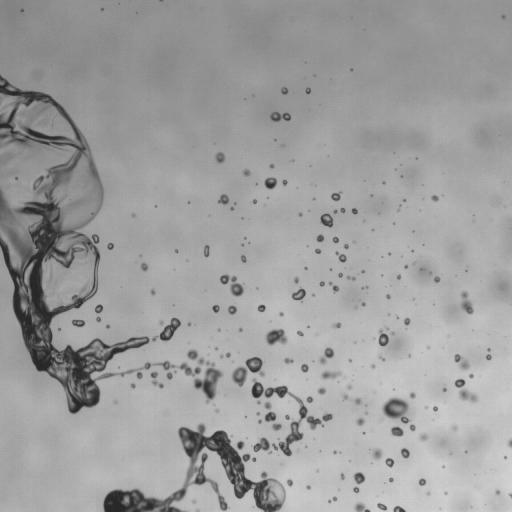droplet: (230, 356, 265, 387), (380, 397, 411, 424), (219, 274, 245, 297), (264, 328, 287, 345), (318, 347, 334, 365), (454, 353, 470, 370), (291, 286, 306, 302), (320, 213, 333, 227), (369, 447, 382, 460), (264, 177, 277, 189), (217, 194, 229, 206), (353, 472, 365, 484), (390, 426, 403, 437), (334, 251, 346, 262), (328, 281, 339, 293), (214, 152, 225, 163), (331, 190, 342, 201), (9, 78, 20, 89), (7, 141, 18, 152), (25, 191, 36, 202), (324, 200, 335, 211), (81, 225, 92, 236), (321, 238, 332, 249), (82, 299, 93, 310), (68, 307, 79, 318), (49, 316, 60, 327), (10, 320, 21, 331), (114, 332, 125, 343), (105, 335, 116, 346), (53, 339, 64, 350), (20, 350, 31, 361), (324, 358, 335, 369), (105, 359, 116, 370), (309, 363, 320, 374), (244, 371, 255, 382), (220, 372, 231, 383), (260, 377, 271, 388), (213, 380, 224, 391), (55, 386, 66, 397), (352, 405, 363, 416), (298, 420, 309, 431), (279, 425, 290, 436), (267, 433, 278, 444), (394, 436, 405, 447), (172, 438, 183, 449), (207, 450, 218, 461), (243, 468, 254, 479), (249, 471, 260, 482), (187, 483, 198, 494), (223, 483, 234, 494), (155, 489, 166, 500), (223, 489, 234, 500), (72, 319, 85, 327), (355, 416, 365, 426), (227, 305, 237, 314), (400, 448, 409, 458), (384, 458, 394, 467), (377, 502, 387, 511), (94, 304, 103, 313), (419, 432, 428, 441), (31, 83, 40, 92), (5, 160, 14, 169), (94, 161, 103, 170), (265, 169, 274, 178), (332, 200, 341, 209), (331, 213, 340, 222), (319, 225, 328, 234), (96, 242, 105, 251), (334, 242, 343, 251), (356, 274, 365, 283), (230, 295, 239, 304), (218, 305, 227, 314), (187, 359, 196, 368), (291, 361, 300, 370), (157, 368, 166, 377), (459, 370, 468, 379), (185, 374, 194, 383), (321, 378, 330, 387), (243, 379, 252, 388), (195, 387, 204, 396), (348, 389, 357, 398), (399, 392, 408, 401), (212, 393, 221, 402), (380, 394, 389, 403), (345, 399, 354, 408), (375, 407, 384, 416), (290, 411, 299, 420), (391, 417, 400, 426), (203, 428, 212, 437), (288, 441, 297, 450), (392, 452, 401, 461), (242, 460, 251, 469), (202, 467, 211, 476), (103, 484, 112, 493), (100, 486, 109, 495), (142, 489, 151, 498), (244, 489, 253, 498), (353, 493, 362, 502), (242, 168, 251, 176), (203, 245, 209, 257), (140, 262, 148, 271), (212, 304, 220, 313), (257, 304, 265, 313), (377, 352, 385, 361), (300, 363, 308, 372), (317, 387, 326, 395), (450, 423, 458, 432), (316, 234, 324, 242), (418, 478, 426, 486), (284, 357, 293, 364), (286, 478, 293, 487), (328, 496, 337, 503), (331, 322, 341, 328), (281, 86, 288, 94), (240, 254, 247, 262), (403, 317, 410, 325), (0, 144, 5, 155), (332, 236, 339, 243), (433, 276, 440, 283), (346, 383, 353, 390), (306, 396, 313, 403), (19, 84, 26, 91), (9, 94, 16, 101), (64, 106, 71, 113), (74, 120, 81, 127), (209, 150, 216, 157), (223, 154, 230, 161), (96, 167, 103, 174), (275, 180, 282, 187), (258, 181, 265, 188), (264, 187, 271, 194), (344, 206, 351, 213), (315, 241, 322, 248), (338, 247, 345, 254), (96, 267, 103, 274), (398, 267, 405, 274), (96, 281, 103, 288), (7, 283, 14, 290), (466, 294, 473, 301), (456, 296, 463, 303), (6, 301, 13, 308), (470, 302, 477, 309), (99, 319, 106, 326), (272, 323, 279, 330), (266, 324, 273, 331), (283, 330, 290, 337), (260, 337, 267, 344), (273, 340, 280, 347), (71, 343, 78, 350), (188, 343, 195, 350), (112, 352, 119, 359), (374, 358, 381, 365), (28, 362, 35, 369), (229, 363, 236, 370), (148, 365, 155, 372), (142, 369, 149, 376), (40, 370, 47, 377), (89, 372, 96, 379), (95, 379, 102, 386), (339, 379, 346, 386), (55, 382, 62, 389), (311, 391, 318, 398), (98, 392, 105, 399), (258, 394, 265, 401), (463, 398, 470, 405), (293, 402, 300, 409), (92, 403, 99, 410), (357, 403, 364, 410), (80, 405, 87, 412), (269, 405, 276, 412), (403, 410, 410, 417), (399, 422, 406, 429), (360, 423, 367, 430), (190, 424, 197, 431), (392, 434, 399, 441), (174, 436, 181, 443), (229, 440, 236, 447), (373, 441, 380, 448), (201, 446, 208, 453), (236, 448, 243, 455), (248, 449, 255, 456), (380, 452, 387, 459), (366, 453, 373, 460), (183, 455, 190, 462), (179, 472, 186, 479), (202, 481, 209, 488), (175, 482, 182, 489), (357, 482, 364, 489), (120, 484, 127, 491), (500, 489, 507, 496), (100, 490, 107, 497), (97, 496, 104, 503), (170, 500, 177, 507), (107, 242, 113, 250), (409, 423, 415, 431), (506, 447, 511, 456), (281, 179, 287, 186), (431, 195, 438, 201), (251, 198, 257, 205), (297, 329, 303, 336), (409, 392, 415, 399), (353, 486, 359, 493), (294, 276, 299, 284), (333, 449, 341, 454), (340, 472, 345, 480), (351, 208, 357, 214), (432, 406, 438, 412), (305, 87, 310, 94), (314, 248, 321, 253), (150, 288, 155, 295), (343, 243, 348, 249), (278, 311, 284, 316), (96, 316, 101, 322), (468, 373, 474, 378), (130, 383, 135, 389), (495, 489, 500, 495), (507, 454, 511, 461), (97, 507, 104, 511), (276, 507, 283, 511), (349, 507, 356, 511), (385, 507, 392, 511), (269, 163, 274, 168), (340, 208, 345, 213), (131, 213, 136, 218), (396, 274, 401, 279), (319, 281, 324, 286), (105, 324, 110, 329), (238, 327, 243, 332), (370, 364, 375, 369), (214, 408, 219, 413), (388, 477, 393, 482), (1, 73, 6, 78), (6, 77, 11, 82), (43, 89, 48, 94), (51, 94, 56, 99), (54, 97, 59, 102), (266, 110, 271, 115), (278, 110, 283, 115), (279, 117, 284, 122), (272, 120, 277, 125), (212, 159, 217, 164), (53, 160, 58, 165), (219, 161, 224, 166), (240, 165, 245, 170), (248, 167, 253, 172), (42, 170, 47, 175), (238, 171, 243, 176), (34, 173, 39, 178), (243, 175, 248, 180), (28, 182, 33, 187), (221, 189, 226, 194), (435, 191, 440, 196), (102, 192, 107, 197), (215, 194, 220, 199), (437, 195, 442, 200), (429, 199, 434, 204), (227, 200, 232, 205), (101, 201, 106, 206), (401, 201, 406, 206), (19, 202, 24, 207), (98, 208, 103, 213), (329, 211, 334, 216), (94, 214, 99, 219), (89, 219, 94, 224), (331, 219, 336, 224), (76, 227, 81, 232), (86, 233, 91, 238), (312, 233, 317, 238), (242, 239, 247, 244), (347, 241, 352, 246), (94, 242, 99, 247), (199, 246, 204, 251), (199, 251, 204, 256), (382, 251, 387, 256), (333, 254, 338, 259), (236, 257, 241, 262), (137, 258, 142, 263), (144, 259, 149, 264), (414, 263, 419, 268), (137, 267, 142, 272), (220, 270, 225, 275), (348, 271, 353, 276), (435, 271, 440, 276), (228, 272, 233, 277), (341, 274, 346, 279), (429, 274, 434, 279), (289, 276, 294, 281), (235, 278, 240, 283), (227, 279, 232, 284), (347, 279, 352, 284), (216, 280, 221, 285), (332, 280, 337, 285), (323, 281, 328, 286), (327, 285, 332, 290), (293, 286, 298, 291), (461, 286, 466, 291), (154, 288, 159, 293), (242, 288, 247, 293), (145, 289, 150, 294), (334, 290, 339, 295), (237, 294, 242, 299), (258, 299, 263, 304), (81, 301, 86, 306), (356, 301, 361, 306), (274, 309, 279, 314), (461, 309, 466, 314), (234, 310, 239, 315), (399, 316, 404, 321), (334, 317, 339, 322), (165, 320, 170, 325), (399, 320, 404, 325), (408, 320, 413, 325), (340, 322, 345, 327), (241, 324, 246, 329), (79, 325, 84, 330), (158, 326, 163, 331), (300, 327, 305, 332), (173, 329, 178, 334), (383, 329, 388, 334), (129, 332, 134, 337), (135, 332, 140, 337), (374, 333, 379, 338), (387, 334, 392, 339), (121, 336, 126, 341), (155, 336, 160, 341), (103, 339, 108, 344), (160, 339, 165, 344), (80, 342, 85, 347), (385, 342, 390, 347), (140, 344, 145, 349), (209, 345, 214, 350), (125, 348, 130, 353), (332, 348, 337, 353), (216, 349, 221, 354), (319, 351, 324, 356), (458, 351, 463, 356), (247, 353, 252, 358), (257, 353, 262, 358), (286, 353, 291, 358), (229, 354, 234, 359), (203, 355, 208, 360), (449, 355, 454, 360), (148, 358, 153, 363), (106, 359, 111, 364), (168, 359, 173, 364), (467, 359, 472, 364), (176, 360, 181, 365), (280, 360, 285, 365), (139, 361, 144, 366), (306, 361, 311, 366), (241, 362, 246, 367), (287, 362, 292, 367), (127, 364, 132, 369), (213, 364, 218, 369), (118, 367, 123, 372), (296, 367, 301, 372), (179, 368, 184, 373), (466, 368, 471, 373), (100, 369, 105, 374), (131, 371, 136, 376), (302, 371, 307, 376), (115, 374, 120, 379), (472, 374, 477, 379), (335, 375, 340, 380), (106, 376, 111, 381), (148, 376, 153, 381), (51, 377, 56, 382), (345, 378, 350, 383), (350, 381, 355, 386), (233, 382, 238, 387), (271, 383, 276, 388), (262, 384, 267, 389), (461, 384, 466, 389), (154, 385, 159, 390), (286, 386, 291, 391), (408, 387, 413, 392), (344, 389, 349, 394), (247, 391, 252, 396), (272, 391, 277, 396), (294, 391, 299, 396), (414, 392, 419, 397), (283, 393, 288, 398), (337, 395, 342, 400), (251, 396, 256, 401), (360, 398, 365, 403), (303, 401, 308, 406), (472, 401, 477, 406), (63, 405, 68, 410), (427, 406, 432, 411), (264, 408, 269, 413), (326, 408, 331, 413), (305, 411, 310, 416), (259, 414, 264, 419), (354, 414, 359, 419), (361, 414, 366, 419), (301, 417, 306, 422), (273, 418, 278, 423), (268, 419, 273, 424), (286, 419, 291, 424), (320, 419, 325, 424), (326, 419, 331, 424), (315, 423, 320, 428), (216, 425, 221, 430), (386, 428, 391, 433), (425, 430, 430, 435), (239, 436, 244, 441), (280, 437, 285, 442), (267, 439, 272, 444), (423, 439, 428, 444), (503, 439, 508, 444), (404, 444, 409, 449), (268, 445, 273, 450), (258, 448, 263, 453), (356, 467, 361, 472), (361, 470, 366, 475), (265, 473, 270, 478), (415, 475, 420, 480), (291, 478, 296, 483), (352, 481, 357, 486), (283, 483, 288, 488), (217, 485, 222, 490), (209, 488, 214, 493), (494, 494, 499, 499), (214, 500, 219, 505), (192, 503, 197, 508), (400, 503, 405, 508), (364, 409, 368, 415), (0, 250, 3, 257), (501, 14, 505, 19), (298, 212, 302, 217), (338, 272, 342, 277), (386, 294, 390, 299), (395, 314, 399, 319), (187, 322, 192, 326), (390, 331, 395, 335), (214, 346, 218, 351), (442, 387, 447, 391), (306, 485, 311, 489), (425, 491, 430, 495), (508, 492, 511, 498), (402, 198, 406, 202), (230, 206, 234, 210), (333, 209, 337, 213), (174, 249, 178, 253), (304, 266, 308, 270), (361, 269, 365, 273), (428, 271, 432, 275), (311, 293, 315, 297), (361, 302, 365, 306), (57, 327, 61, 331), (424, 405, 428, 409), (441, 464, 445, 468), (192, 499, 196, 503), (280, 144, 285, 147), (404, 264, 407, 269), (508, 488, 511, 493), (217, 508, 222, 511), (224, 508, 229, 511), (258, 508, 263, 511), (378, 508, 383, 511), (382, 181, 386, 184), (187, 200, 190, 204), (392, 221, 395, 225), (352, 240, 356, 243), (387, 252, 391, 255), (412, 261, 415, 265), (354, 305, 357, 309), (387, 312, 390, 316), (372, 337, 376, 340), (426, 346, 430, 349), (348, 358, 351, 362), (113, 400, 117, 403), (256, 412, 260, 415), (449, 451, 452, 455), (316, 468, 319, 472), (444, 491, 447, 495), (419, 268, 424, 270), (0, 91, 2, 96), (20, 8, 23, 11), (350, 68, 353, 71), (400, 174, 403, 177), (370, 194, 373, 197), (266, 196, 269, 199), (312, 197, 315, 200), (233, 202, 236, 205), (154, 204, 157, 207), (371, 228, 374, 231), (243, 236, 246, 239), (241, 243, 244, 246), (411, 249, 414, 252), (139, 254, 142, 257), (329, 268, 332, 271), (412, 297, 415, 300), (217, 328, 220, 331), (362, 431, 365, 434), (464, 450, 467, 453), (504, 456, 507, 459), (348, 459, 351, 462), (470, 505, 473, 508), (159, 1, 162, 4), (100, 4, 103, 7), (17, 7, 20, 10), (103, 7, 106, 10), (23, 8, 26, 11), (20, 11, 23, 14), (498, 15, 501, 18), (348, 65, 351, 68), (352, 68, 355, 71), (348, 70, 351, 73), (307, 84, 310, 87), (286, 86, 289, 89), (287, 89, 290, 92), (302, 90, 305, 93), (309, 91, 312, 94), (282, 93, 285, 96), (288, 111, 291, 114), (289, 117, 292, 120), (276, 138, 279, 141), (416, 154, 419, 157), (414, 159, 417, 162), (268, 161, 271, 164), (273, 163, 276, 166), (15, 173, 18, 176), (402, 173, 405, 176), (11, 175, 14, 178), (17, 176, 20, 179), (283, 176, 286, 179), (399, 177, 402, 180), (383, 178, 386, 181), (14, 179, 17, 182), (379, 179, 382, 182), (252, 181, 255, 184), (285, 182, 288, 185), (380, 183, 383, 186), (369, 190, 372, 193), (329, 191, 332, 194), (339, 193, 342, 196), (372, 194, 375, 197), (309, 195, 312, 198), (314, 195, 317, 198), (367, 195, 370, 198), (402, 195, 405, 198), (255, 197, 258, 200), (249, 198, 252, 201), (184, 199, 187, 202), (189, 199, 192, 202), (312, 199, 315, 202), (331, 199, 334, 202), (255, 201, 258, 204), (219, 202, 222, 205), (250, 202, 253, 205), (151, 203, 154, 206), (156, 203, 159, 206), (187, 203, 190, 206), (232, 204, 235, 207), (351, 205, 354, 208), (395, 205, 398, 208), (355, 206, 358, 209), (399, 206, 402, 209), (153, 207, 156, 210), (231, 209, 234, 212), (337, 209, 340, 212), (323, 210, 326, 213), (320, 211, 323, 214), (295, 212, 298, 215), (301, 212, 304, 215), (350, 212, 353, 215), (240, 213, 243, 216), (354, 213, 357, 216), (243, 216, 246, 219), (238, 218, 241, 221), (317, 218, 320, 221), (389, 220, 392, 223), (394, 220, 397, 223), (325, 225, 328, 228), (370, 225, 373, 228), (97, 233, 100, 236), (337, 236, 340, 239), (98, 237, 101, 240), (111, 240, 114, 243), (420, 240, 423, 243), (205, 241, 208, 244), (331, 241, 334, 244), (248, 243, 251, 246), (239, 245, 242, 248), (420, 245, 423, 248), (112, 246, 115, 249), (347, 246, 350, 249), (408, 247, 411, 250), (177, 248, 180, 251), (208, 248, 211, 251), (389, 249, 392, 252), (172, 251, 175, 254), (319, 251, 322, 254), (409, 251, 412, 254), (412, 251, 415, 254), (316, 253, 319, 256), (390, 253, 393, 256), (245, 256, 248, 259), (344, 259, 347, 262), (338, 260, 341, 263), (242, 262, 245, 265), (304, 263, 307, 266), (401, 263, 404, 266), (328, 264, 331, 267), (407, 264, 410, 267), (147, 265, 150, 268), (464, 266, 467, 269), (301, 267, 304, 270), (359, 267, 362, 270), (363, 267, 366, 270), (304, 269, 307, 272), (339, 269, 342, 272), (328, 270, 331, 273), (420, 270, 423, 273), (464, 271, 467, 274), (361, 272, 364, 275), (395, 272, 398, 275), (335, 274, 338, 277), (377, 274, 380, 277), (382, 274, 385, 277), (400, 274, 403, 277), (217, 275, 220, 278), (393, 275, 396, 278), (395, 278, 398, 281), (439, 278, 442, 281), (317, 279, 320, 282), (353, 279, 356, 282), (436, 281, 439, 284), (366, 282, 369, 285), (316, 283, 319, 286), (362, 283, 365, 286), (321, 285, 324, 288), (363, 287, 366, 290), (304, 289, 307, 292), (384, 291, 387, 294), (94, 292, 97, 295), (314, 292, 317, 295), (288, 293, 291, 296), (389, 293, 392, 296), (152, 294, 155, 297), (383, 296, 386, 299), (301, 297, 304, 300), (296, 299, 299, 302), (413, 299, 416, 302), (100, 302, 103, 305), (211, 302, 214, 305), (365, 302, 368, 305), (360, 305, 363, 308), (102, 306, 105, 309), (264, 307, 267, 310), (256, 310, 259, 313), (282, 310, 285, 313), (96, 312, 99, 315), (280, 315, 283, 318), (393, 315, 396, 318), (407, 315, 410, 318), (83, 319, 86, 322), (94, 320, 97, 323), (69, 322, 72, 325), (190, 323, 193, 326), (304, 323, 307, 326), (109, 324, 112, 327), (309, 324, 312, 327), (404, 324, 407, 327), (74, 325, 77, 328), (215, 325, 218, 328), (60, 327, 63, 330), (104, 327, 107, 330), (107, 327, 110, 330), (235, 327, 238, 330), (296, 327, 299, 330), (307, 327, 310, 330), (336, 327, 339, 330), (220, 328, 223, 331), (293, 330, 296, 333), (216, 331, 219, 334), (239, 331, 242, 334), (298, 335, 301, 338), (148, 338, 151, 341), (375, 338, 378, 341), (353, 343, 356, 346), (486, 344, 489, 347), (489, 346, 492, 349), (405, 353, 408, 356), (381, 354, 384, 357), (410, 354, 413, 357), (483, 357, 486, 360), (490, 357, 493, 360), (351, 358, 354, 361), (161, 359, 164, 362), (345, 359, 348, 362), (384, 359, 387, 362), (487, 359, 490, 362), (298, 363, 301, 366), (368, 366, 371, 369), (307, 367, 310, 370), (171, 372, 174, 375), (472, 372, 475, 375), (127, 383, 130, 386), (392, 384, 395, 387), (441, 384, 444, 387), (134, 386, 137, 389), (130, 387, 133, 390), (160, 387, 163, 390), (439, 388, 442, 391), (443, 391, 446, 394), (343, 399, 346, 402), (434, 403, 437, 406), (437, 407, 440, 410), (284, 411, 287, 414), (244, 412, 247, 415), (331, 414, 334, 417), (241, 415, 244, 418), (246, 415, 249, 418), (255, 421, 258, 424), (414, 426, 417, 429), (359, 431, 362, 434), (364, 432, 367, 435), (304, 447, 307, 450), (330, 448, 333, 451), (340, 448, 343, 451), (461, 448, 464, 451), (466, 448, 469, 451), (336, 449, 339, 452), (330, 451, 333, 454), (461, 451, 464, 454), (466, 451, 469, 454), (335, 452, 338, 455), (503, 452, 506, 455), (500, 455, 503, 458), (506, 455, 509, 458), (403, 457, 406, 460), (439, 462, 442, 465), (392, 463, 395, 466), (444, 464, 447, 467), (386, 465, 389, 468), (442, 467, 445, 470), (343, 473, 346, 476), (337, 474, 340, 477), (388, 474, 391, 477), (421, 475, 424, 478), (392, 477, 395, 480), (385, 478, 388, 481), (425, 479, 428, 482), (415, 480, 418, 483), (307, 482, 310, 485), (291, 483, 294, 486), (416, 483, 419, 486), (421, 484, 424, 487), (305, 488, 308, 491), (444, 488, 447, 491), (352, 491, 355, 494), (429, 491, 432, 494), (440, 491, 443, 494), (447, 491, 450, 494), (492, 491, 495, 494), (335, 494, 338, 497), (444, 494, 447, 497), (426, 495, 429, 498), (507, 495, 510, 498), (336, 497, 339, 500), (324, 499, 327, 502), (383, 502, 386, 505), (290, 159, 294, 161), (352, 341, 356, 343), (195, 509, 199, 511), (100, 8, 103, 10), (313, 74, 316, 76), (415, 156, 417, 159), (15, 176, 17, 179), (255, 183, 258, 185), (307, 209, 310, 211), (363, 219, 365, 222), (268, 320, 271, 322), (307, 325, 310, 327), (207, 353, 210, 355), (231, 360, 234, 362), (392, 388, 395, 390), (365, 404, 367, 407), (304, 445, 307, 447), (199, 509, 202, 511), (437, 509, 440, 511), (274, 139, 276, 141), (394, 168, 396, 170), (419, 209, 421, 211), (241, 217, 243, 219), (412, 230, 414, 232), (248, 241, 250, 243), (422, 243, 424, 245), (306, 245, 308, 247), (186, 259, 188, 261), (465, 269, 467, 271), (381, 274, 383, 276), (256, 287, 258, 289), (433, 303, 435, 305), (172, 304, 174, 306), (312, 360, 314, 362), (117, 366, 119, 368), (244, 416, 246, 418), (313, 437, 315, 439), (319, 450, 321, 452), (309, 165, 311, 166), (381, 256, 383, 257), (405, 328, 407, 329), (337, 381, 339, 382), (246, 437, 247, 439), (473, 214, 474, 215), (371, 462, 372, 463)
ligament: (453, 378, 479, 403), (460, 290, 473, 314), (320, 370, 348, 380), (342, 393, 362, 405), (150, 371, 164, 388), (378, 326, 389, 347), (0, 168, 22, 178), (270, 112, 291, 121), (353, 502, 371, 511), (34, 119, 48, 126), (485, 347, 492, 360), (393, 505, 406, 511), (219, 352, 231, 358), (346, 275, 356, 281), (507, 437, 511, 448), (397, 204, 401, 211), (361, 285, 368, 289), (408, 354, 410, 358), (208, 214, 211, 216), (158, 0, 163, 1), (474, 485, 475, 487)
